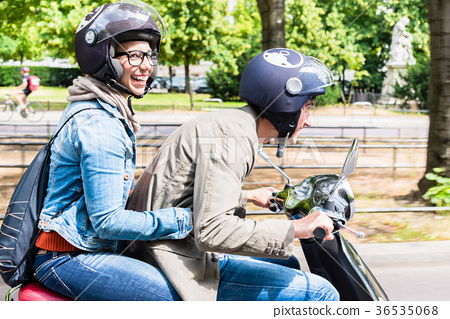helmet: (238, 50, 331, 114), (76, 10, 163, 72)
